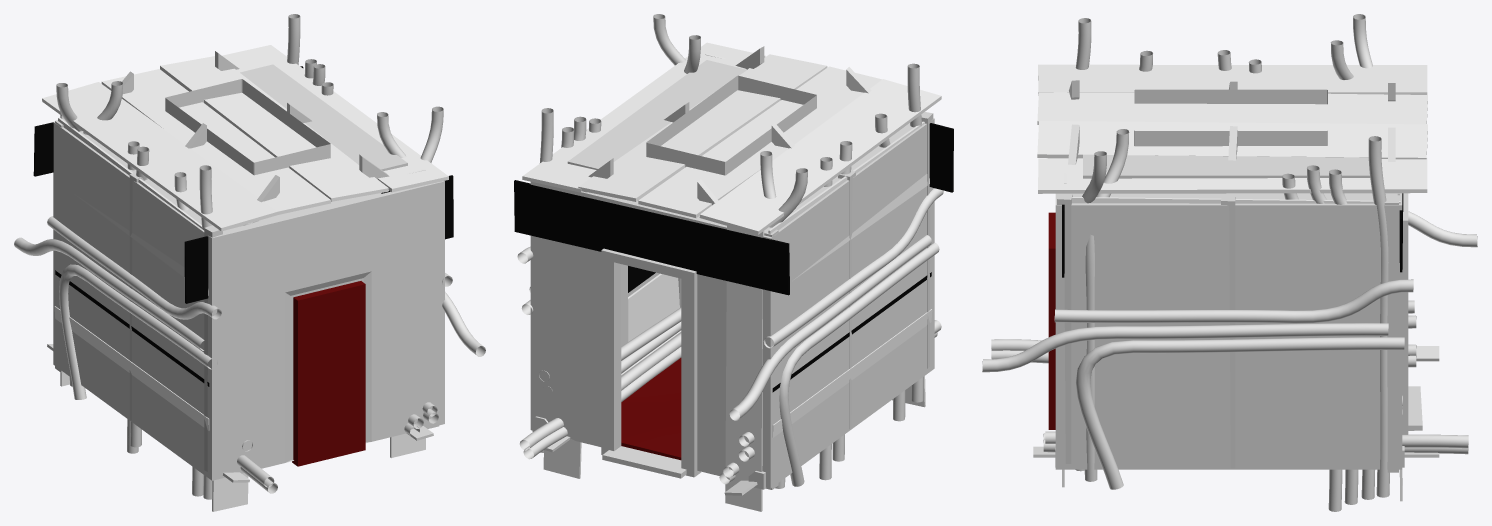
The model's file is 02 Starter Room .fbx.
3 views of the same model, side by side, from view 1: azimuth 30°, elevation 25°; view 2: azimuth 150°, elevation 25°; view 3: azimuth 270°, elevation 25° (orthographic). The views are drawn at different scales.
Parts seen in each view (by area): view 1: Room Walls Base.001, Top and Bottom Metal Sheets.001, Wall Metal Sheets.001, BézierCurve.051, Top Metal Stuff.001, Structures.001; view 2: Room Walls Base.001, Top and Bottom Metal Sheets.001, Wall Metal Sheets.001, BézierCurve.051, Starter Room and Hallway.002, Structures.001, Top Metal Stuff.001, Cube.001; view 3: Room Walls Base.001, Top and Bottom Metal Sheets.001, BézierCurve.051, Structures.001, Top Metal Stuff.001, Wall Metal Sheets.001, Starter Room and Hallway.002, Cube.001.
Part boxes in pixels (x1,y1,x2,y2): Room Walls Base.001: (53,64,444,480); Top and Bottom Metal Sheets.001: (42,45,448,231); Wall Metal Sheets.001: (33,66,453,511); BézierCurve.051: (14,14,485,499); Top Metal Stuff.001: (165,79,330,175); Structures.001: (47,51,443,482); Room Walls Base.001: (530,60,934,488); Top and Bottom Metal Sheets.001: (522,42,941,460); Wall Metal Sheets.001: (514,53,953,511); BézierCurve.051: (517,14,943,488); Starter Room and Hallway.002: (601,248,701,477); Structures.001: (532,46,933,495); Top Metal Stuff.001: (646,75,816,175); Cube.001: (602,446,686,478); Room Walls Base.001: (1055,154,1402,469); Top and Bottom Metal Sheets.001: (1037,64,1427,193); BézierCurve.051: (982,14,1477,511); Structures.001: (1033,80,1439,472); Top Metal Stuff.001: (1134,89,1327,146); Wall Metal Sheets.001: (1048,173,1403,501); Starter Room and Hallway.002: (1402,193,1408,434); Cube.001: (1408,386,1422,430).
Size of the model in its own units: 428 by 512 by 614.
